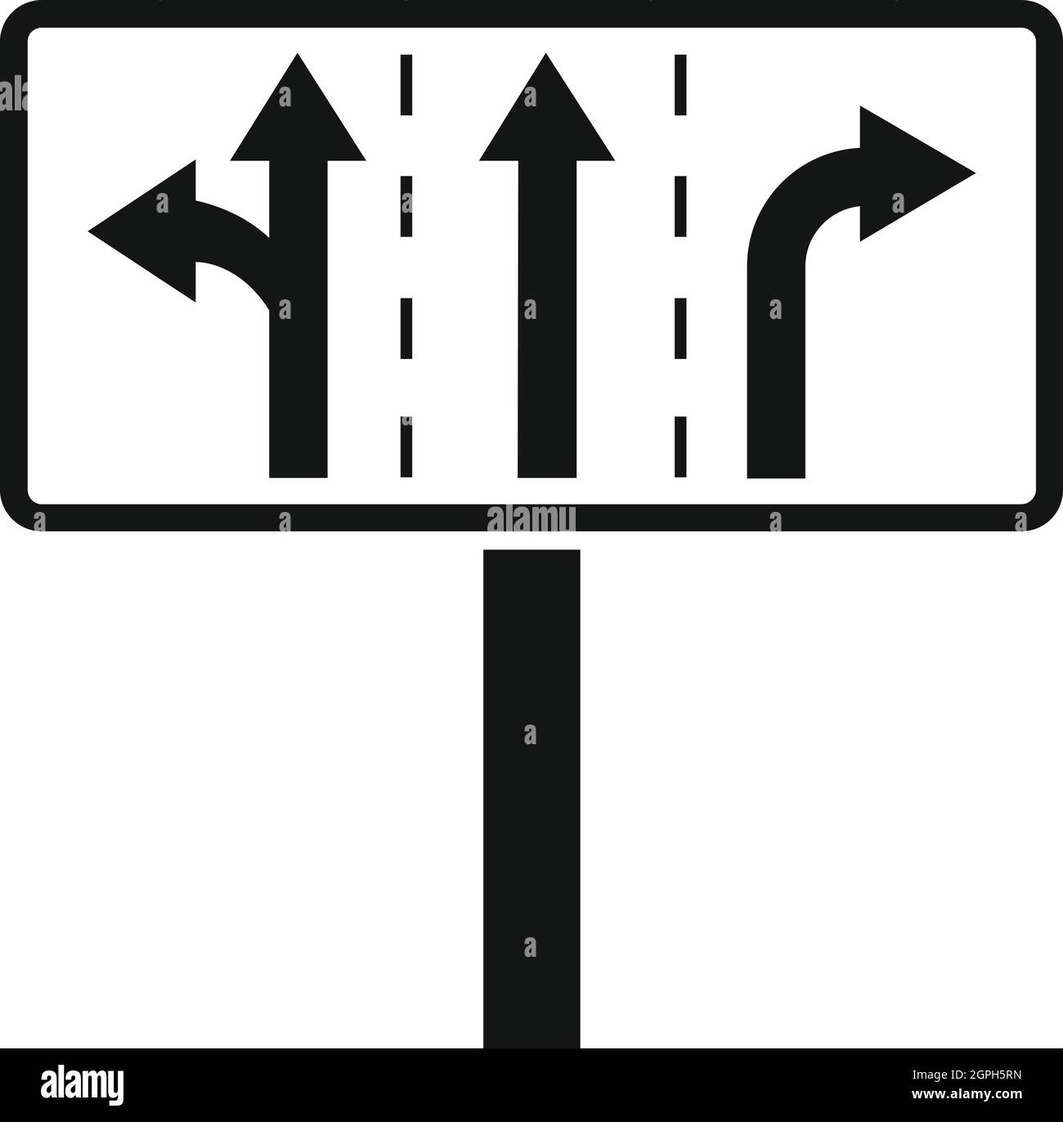Straight or Left Turn Only: (70, 53, 372, 493)
